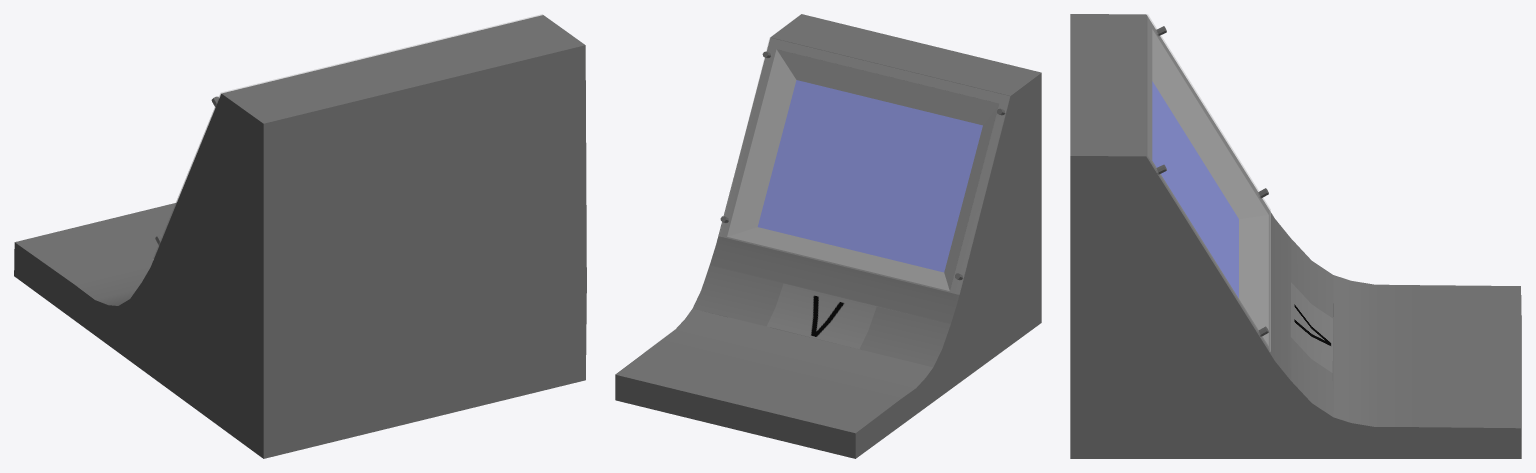
The model's file is Voltmeter.glb.
The picture shows the model from 3 angles, left to right: view 1: azimuth 30°, elevation 25°; view 2: azimuth 150°, elevation 25°; view 3: azimuth 270°, elevation 25°; orthographic projection. The views are drawn at different scales.
Visible parts, largest first — view 1: Cube.006, Cube.007; view 2: Cube.006, Cube.007; view 3: Cube.006, Cube.007.
Boxes of the visible parts, x1=… form: Cube.006: x1=14, y1=15, x2=586, y2=458; Cube.007: x1=153, y1=14, x2=542, y2=259; Cube.006: x1=615, y1=14, x2=1041, y2=458; Cube.007: x1=719, y1=38, x2=1009, y2=294; Cube.006: x1=1070, y1=14, x2=1521, y2=458; Cube.007: x1=1147, y1=14, x2=1270, y2=351.
Bounding box in the file's own units: 2.01 × 1.99 × 2.68.
Materials: 5 (1 with a texture image).
